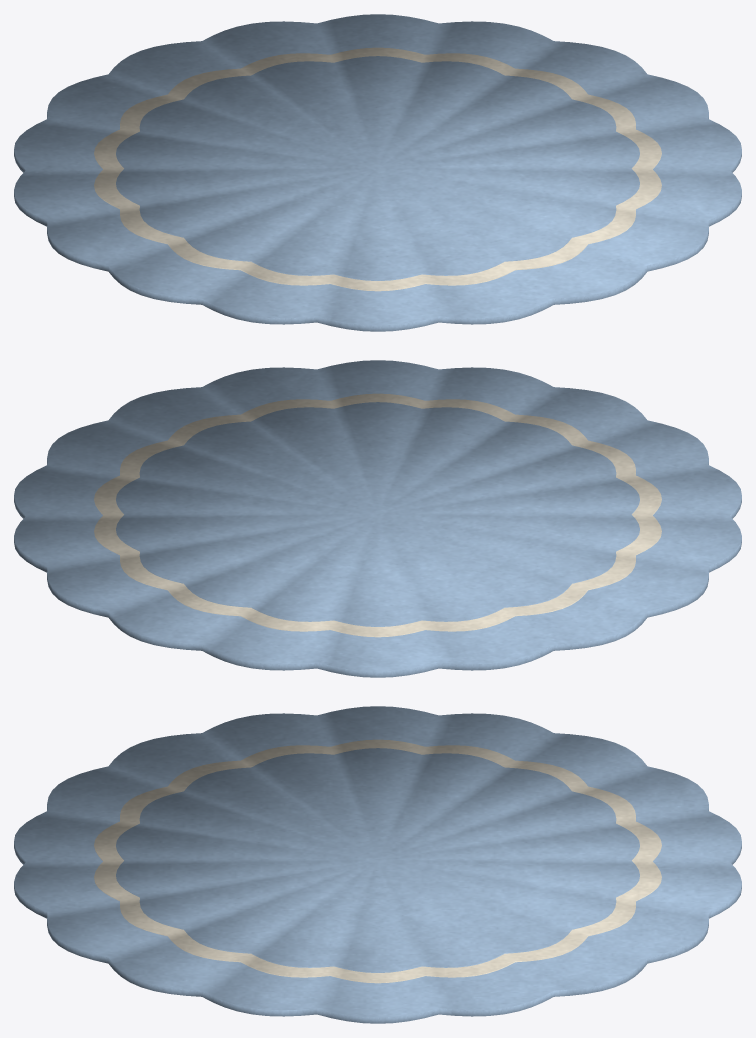
Rendered from rug_scallop.glb.
3 views of the same model, one above another, from view 1: azimuth 30°, elevation 25°; view 2: azimuth 150°, elevation 25°; view 3: azimuth 270°, elevation 25° (orthographic).
Visible parts, largest first — view 1: model; view 2: model; view 3: model.
Boxes of the visible parts, x1,y1,x2,y2 form: model: [14, 14, 741, 331]; model: [14, 360, 741, 677]; model: [14, 706, 741, 1023].
Size of the model in its own units: 1.6 by 0.019 by 1.58.
Materials: 2 (2 with a texture image).
